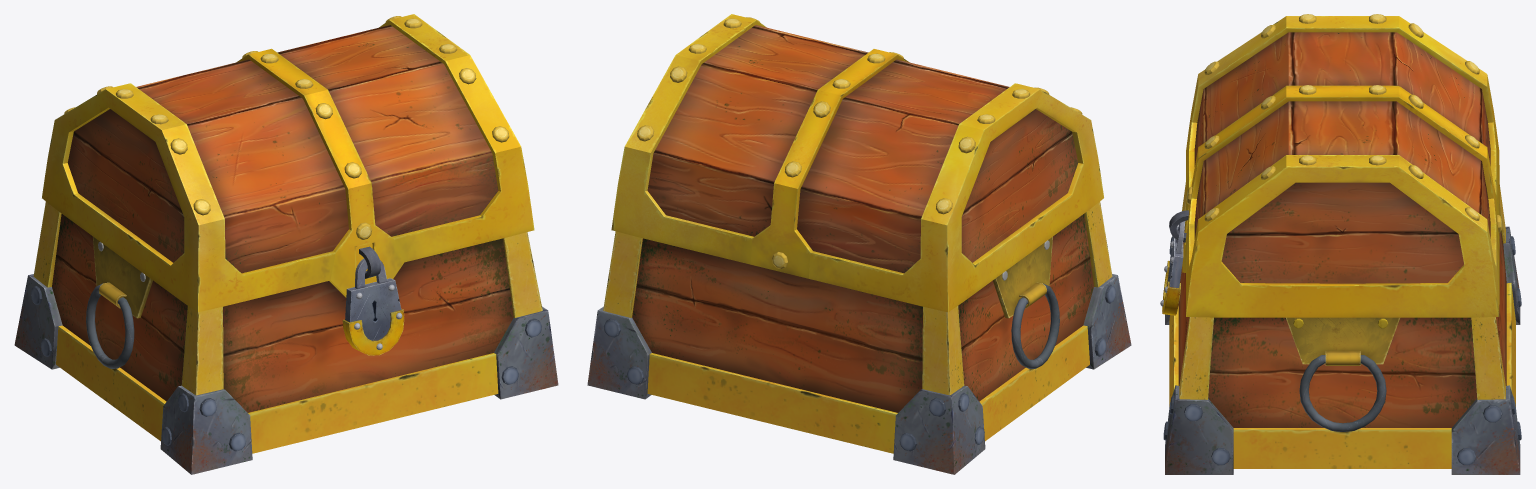
Rendered from BlackTresure.fbx.
The picture shows the model from 3 angles, left to right: view 1: azimuth 30°, elevation 25°; view 2: azimuth 150°, elevation 25°; view 3: azimuth 270°, elevation 25°; orthographic projection.
Parts seen in each view (by area): view 1: tresure_box_GEO, Padlock1, Neji_Box_geo, hold_GEO1; view 2: tresure_box_GEO, Neji_Box_geo, hold_GEO1; view 3: tresure_box_GEO, hold_GEO, Neji_Box_geo, Padlock1.
Part boxes in pixels (box(x1,y1,x2,y2)): tresure_box_GEO: box(14, 14, 558, 474); Padlock1: box(342, 246, 404, 355); Neji_Box_geo: box(31, 16, 541, 451); hold_GEO1: box(86, 236, 152, 368); tresure_box_GEO: box(587, 14, 1131, 474); Neji_Box_geo: box(604, 17, 1115, 451); hold_GEO1: box(993, 236, 1059, 368); tresure_box_GEO: box(1165, 16, 1520, 474); hold_GEO: box(1286, 317, 1399, 431); Neji_Box_geo: box(1163, 14, 1521, 465); Padlock1: box(1162, 210, 1188, 315).
Bounding box in the file's own units: 27.59 × 21.12 × 23.22.
